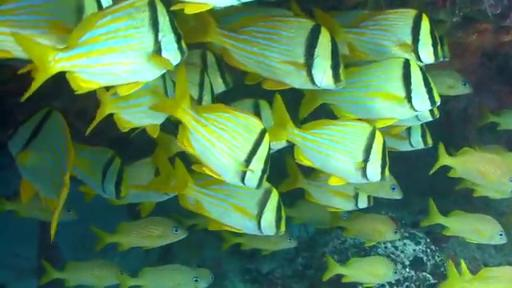Fish: (12, 0, 187, 99), (152, 65, 269, 188), (176, 13, 343, 89), (269, 94, 389, 184), (300, 59, 440, 127), (8, 108, 74, 240), (175, 159, 285, 235), (72, 144, 175, 214), (330, 9, 448, 64), (86, 72, 174, 137), (278, 157, 372, 211), (0, 0, 71, 59), (420, 199, 507, 244), (110, 158, 176, 216), (430, 143, 511, 189), (91, 217, 187, 251), (72, 144, 125, 199), (305, 171, 373, 211), (183, 49, 232, 104), (323, 256, 400, 286), (40, 260, 123, 287), (118, 264, 214, 287), (336, 212, 401, 245), (440, 260, 511, 287), (212, 6, 295, 29), (152, 132, 200, 167), (221, 232, 297, 254), (285, 200, 342, 227), (340, 175, 403, 199), (380, 124, 432, 151), (461, 260, 511, 287), (229, 99, 273, 129), (230, 99, 273, 129), (0, 198, 53, 221), (427, 68, 472, 95), (171, 0, 252, 14), (456, 180, 511, 199), (391, 108, 439, 126), (439, 260, 467, 287), (479, 109, 511, 130), (82, 0, 114, 19), (171, 214, 210, 229)
